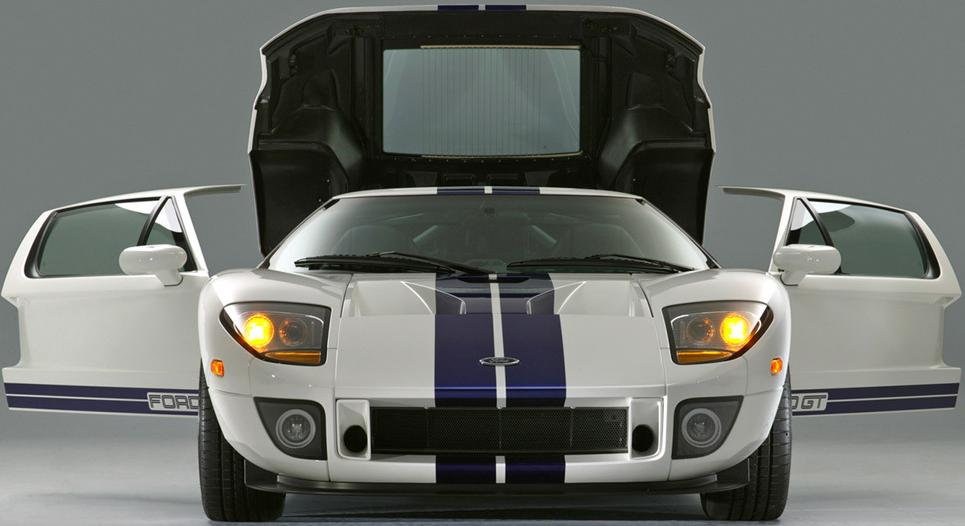front_view: (238, 287, 789, 495)
headlight: (644, 286, 831, 400)
